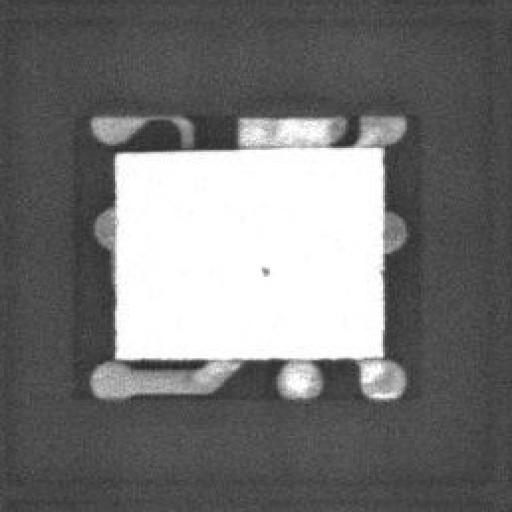DIE_INK: (243, 274, 258, 290)
